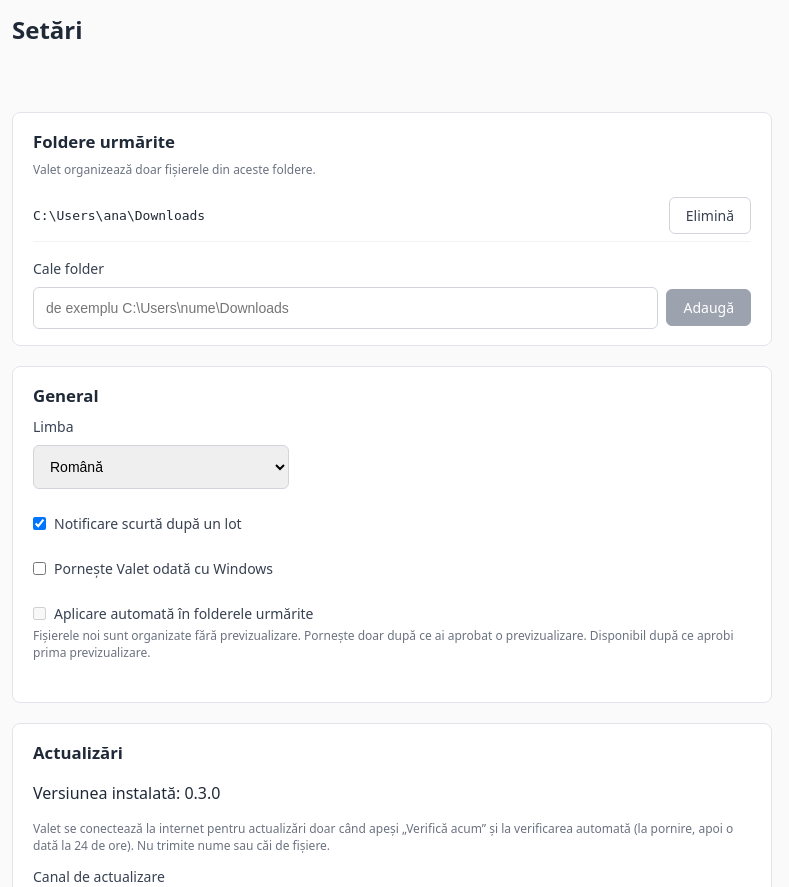
SettingsView › adds and removes watched folders, keeping the other config fields
Expected: the text "C:\\Users\\ana\\Downloads" is shown, top-left (33, 206), bottom-right (205, 226)
Type "  C:\\Users\\ana\\Desktop " into the field labelled "Cale folder" at (346, 308), box top-left (33, 287), bottom-right (658, 329)
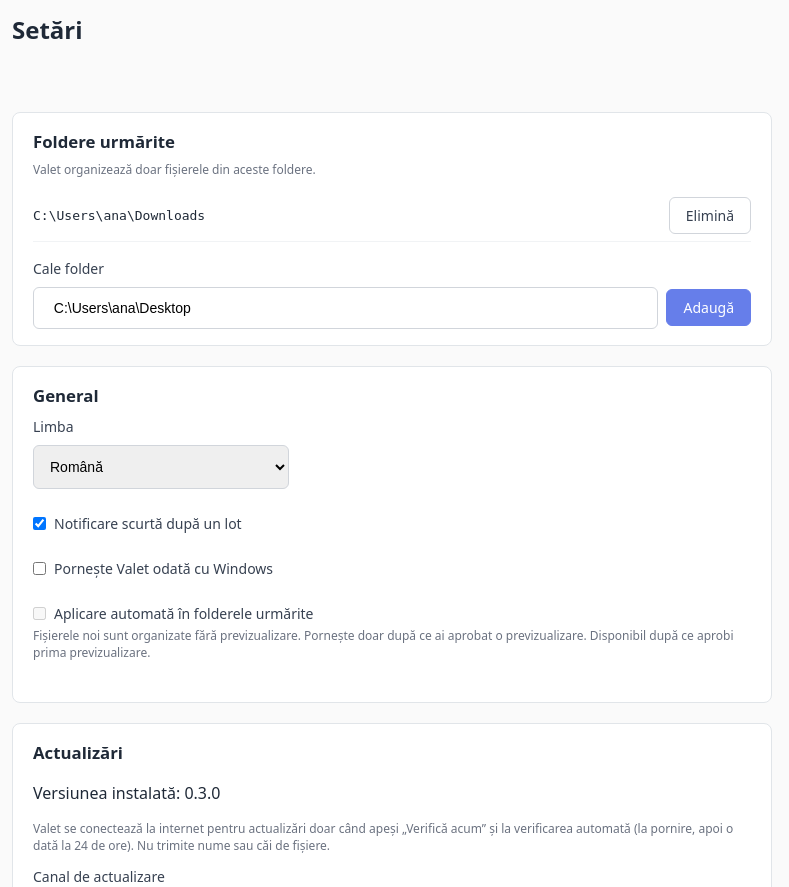
Click the button "Adaugă" at (709, 308), box top-left (666, 289), bottom-right (751, 326)
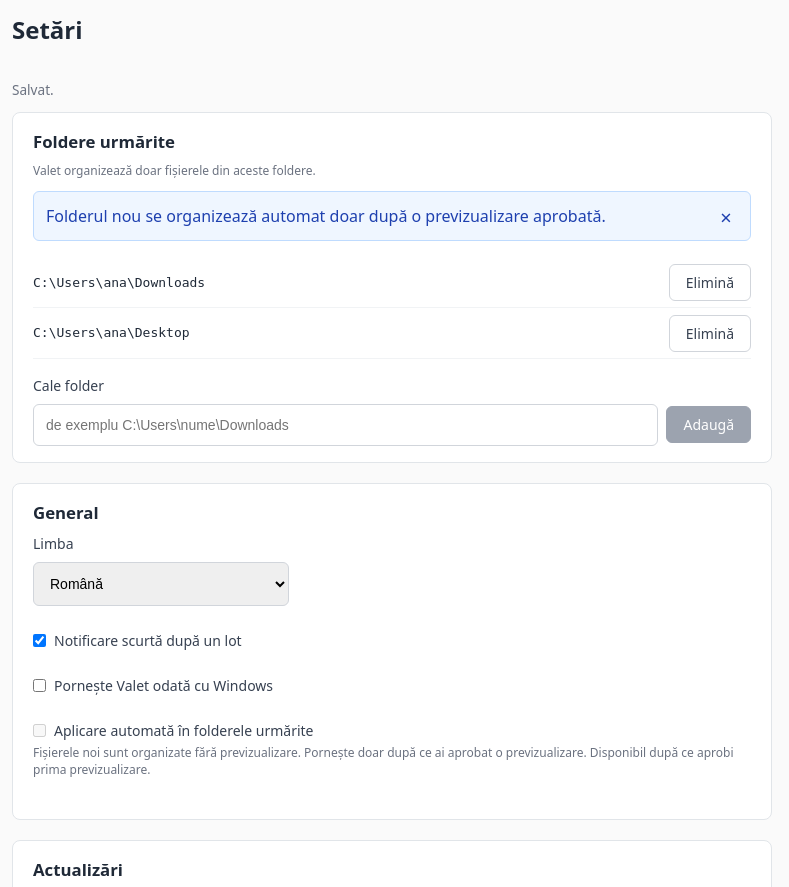
Result: the text "C:\\Users\\ana\\Desktop" is shown at top-left (33, 323), bottom-right (190, 343)
Result: the field labelled "Cale folder" is empty at top-left (33, 404), bottom-right (658, 446)
Click the button "Elimină" in the row of "C:\\Users\\ana\\Downloads" at (710, 282), box top-left (669, 264), bottom-right (751, 301)
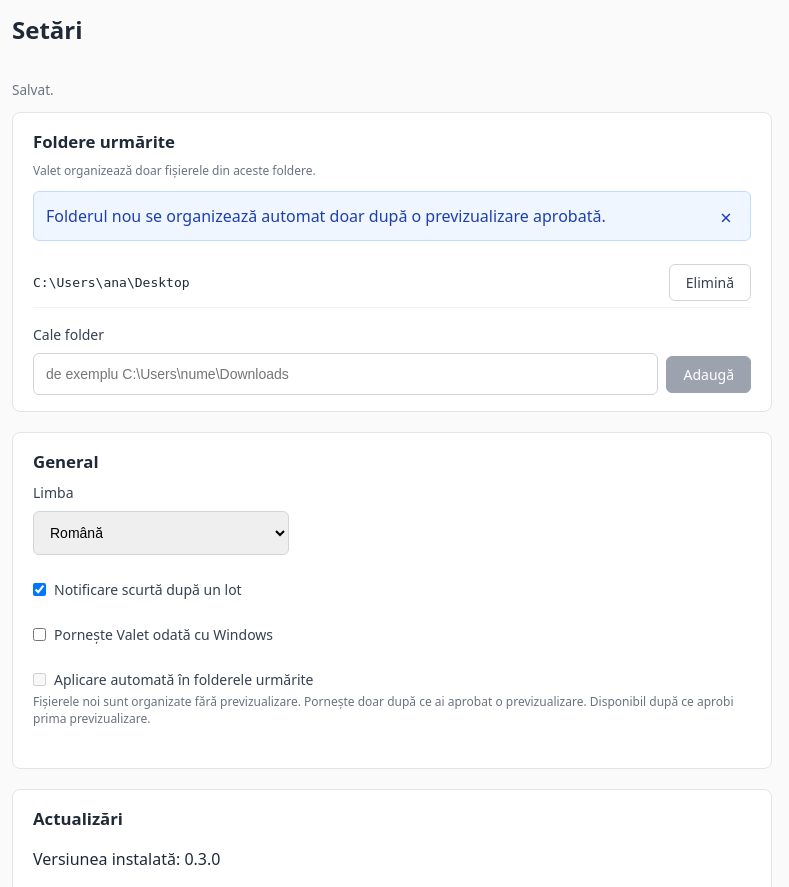
Result: the text "C:\\Users\\ana\\Downloads" is gone
